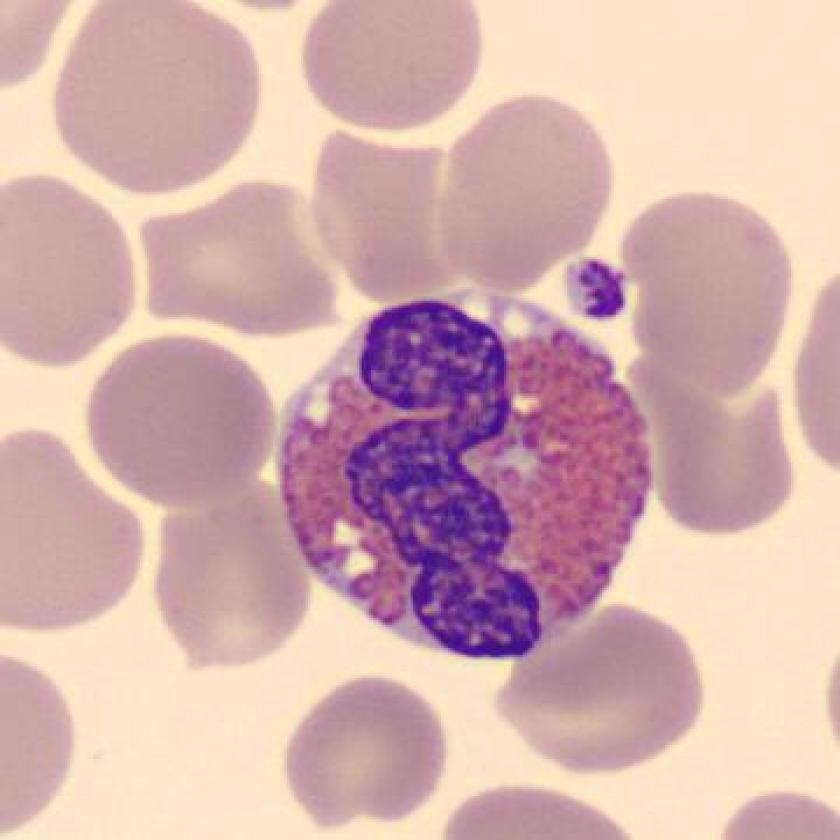eosinophil: (256, 276, 669, 672)
